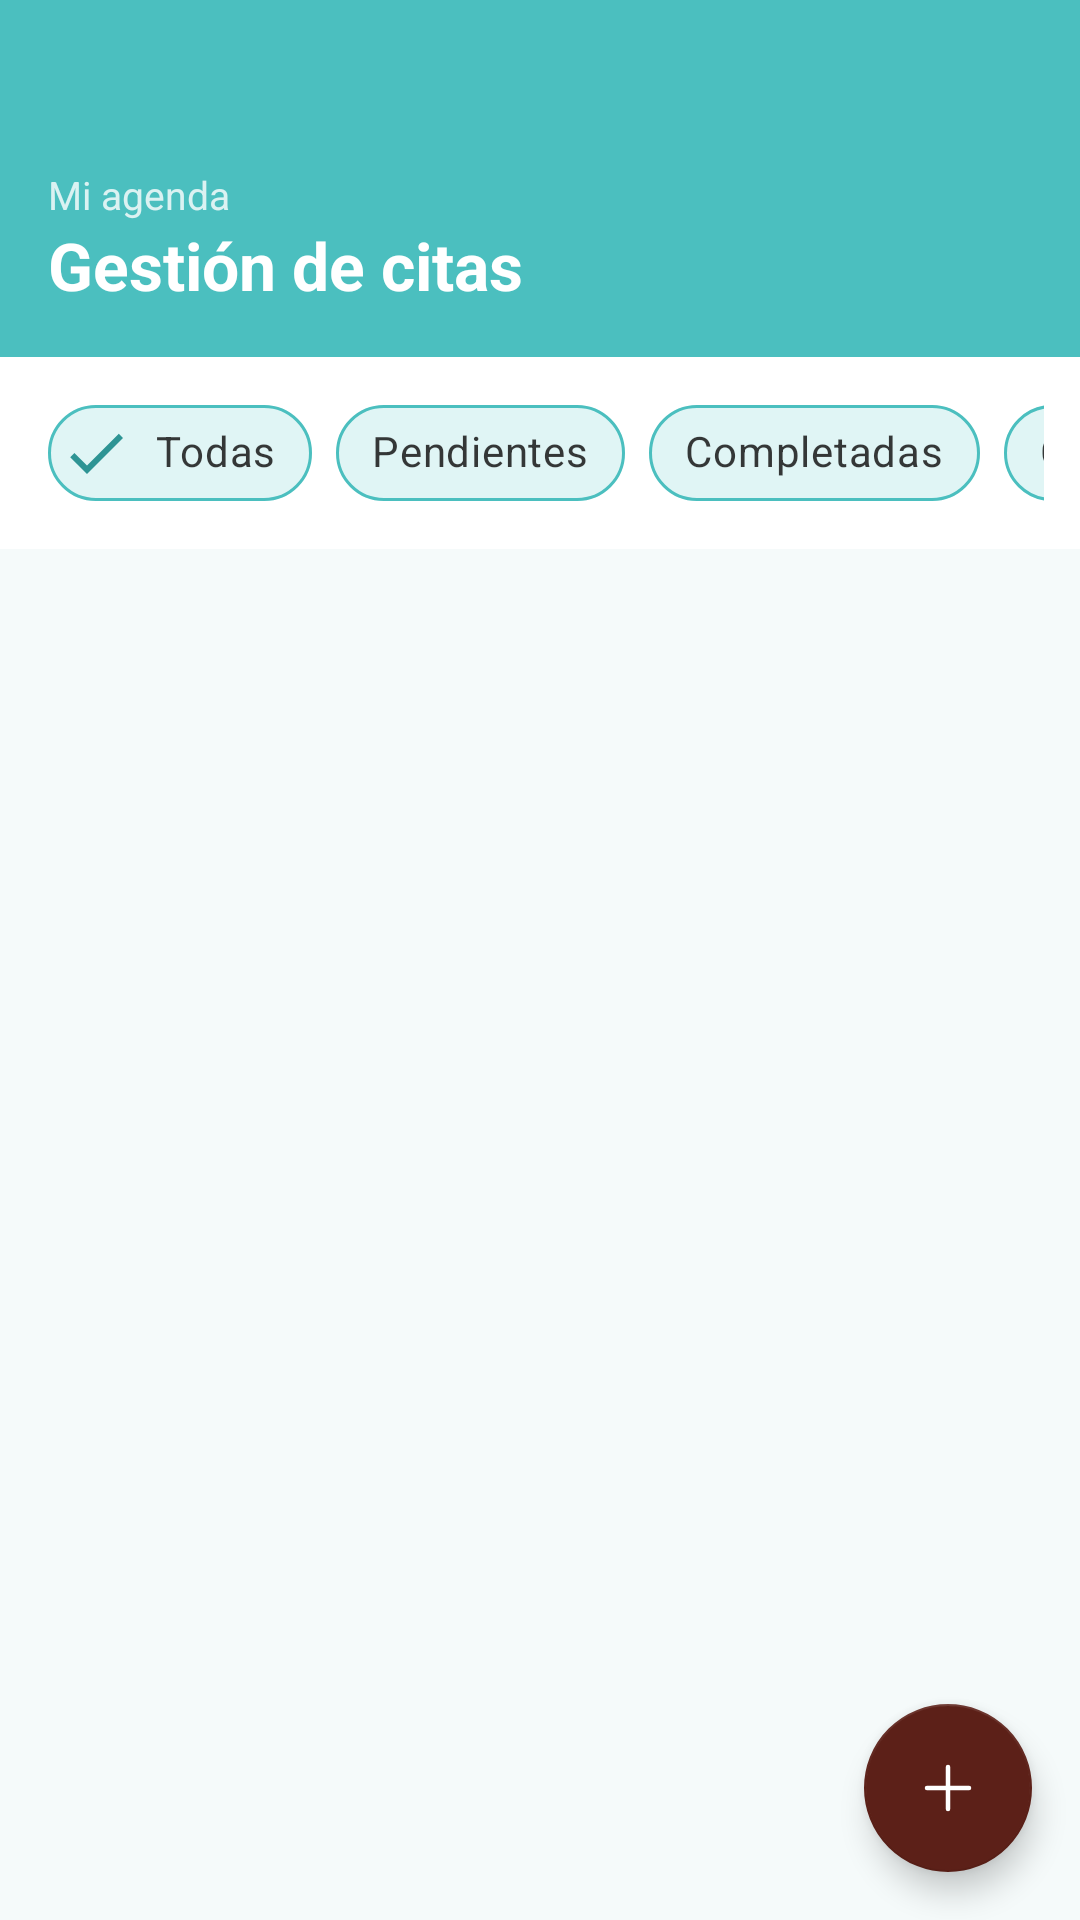

Where to tap for icons on this 1080px x 1920px app screen, as (x=x, y=y):
Añadir cita: (x=948, y=1788)
